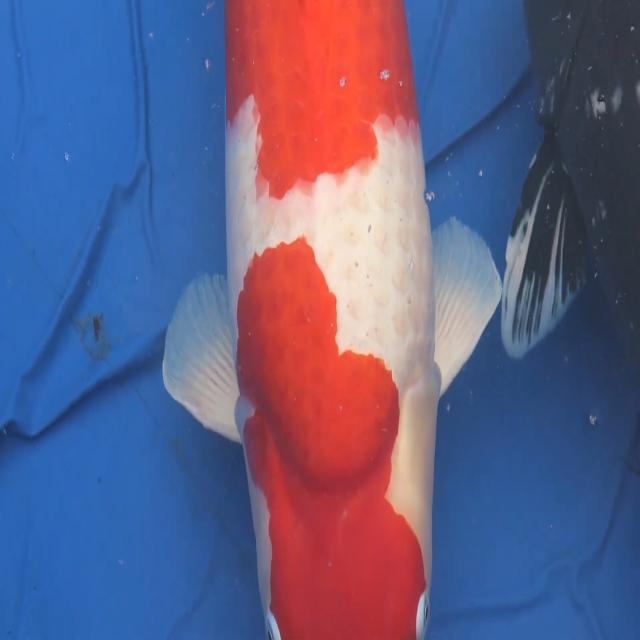Kohaku: (161, 0, 503, 638)
